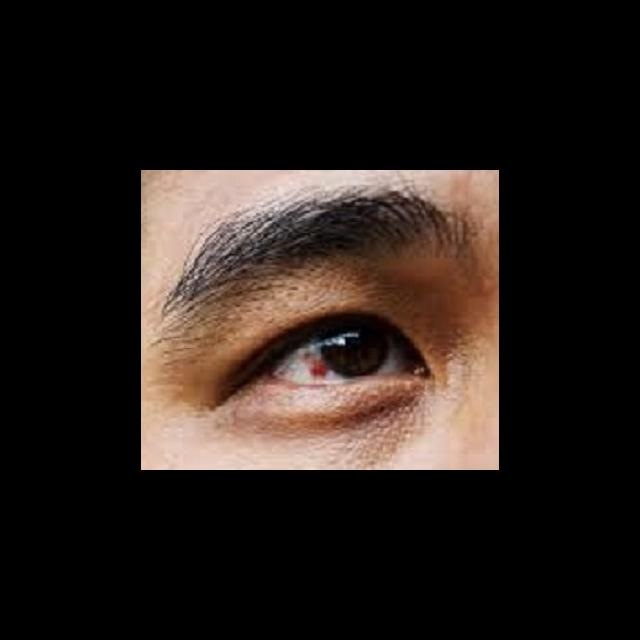eye: (269, 328, 415, 383)
iris: (318, 328, 393, 382)
